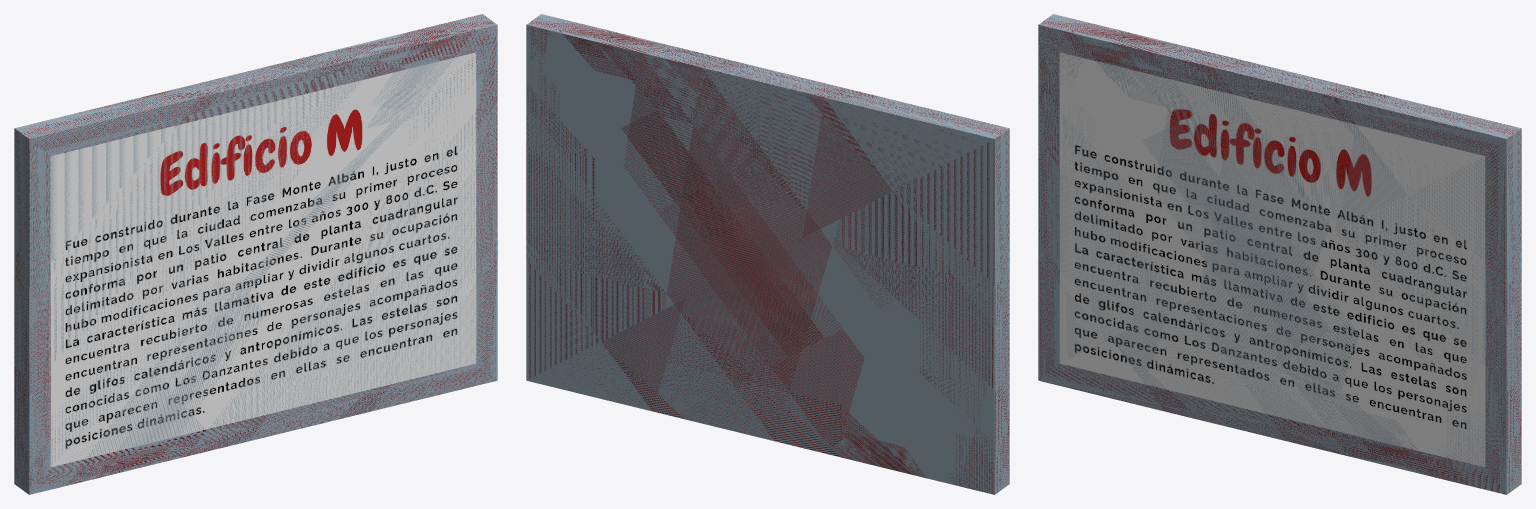
Rendered from edificiom.obj.
The picture shows the model from 3 angles, left to right: view 1: azimuth 30°, elevation 25°; view 2: azimuth 150°, elevation 25°; view 3: azimuth 330°, elevation 25°; orthographic projection.
Parts seen in each view (by area): view 1: Mesh1 Model; view 2: Mesh1 Model; view 3: Mesh1 Model.
Boxes of the visible parts, left/top/right/bottom form: Mesh1 Model: left=14, top=14, right=497, bottom=494; Mesh1 Model: left=526, top=14, right=1009, bottom=494; Mesh1 Model: left=1038, top=14, right=1521, bottom=494.
Size of the model in its own units: 103 by 74.75 by 5.62.
